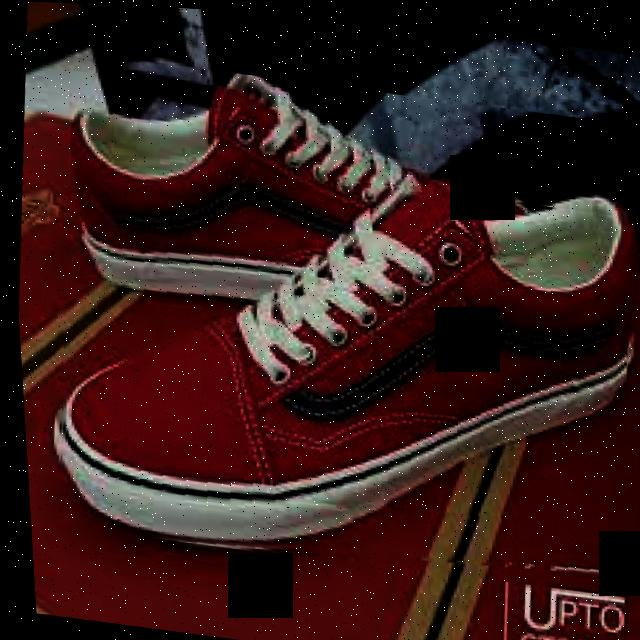shoe: (22, 48, 640, 602), (32, 141, 640, 595)
